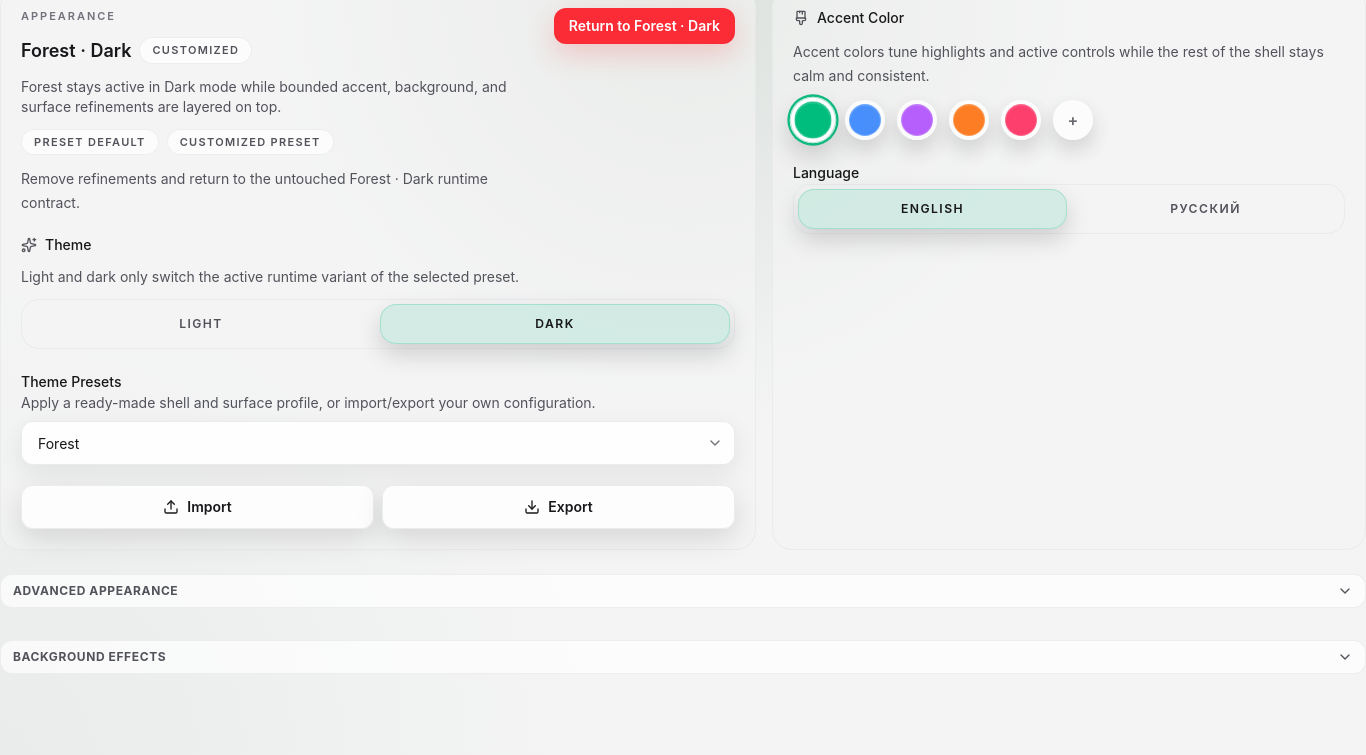
Test: AppearanceTab background controls › shows only particle controls when particles are the active background type
Click the button "Background Effects" at coordinates (90, 657), box [0,640,1365,674]
(page scrolled)
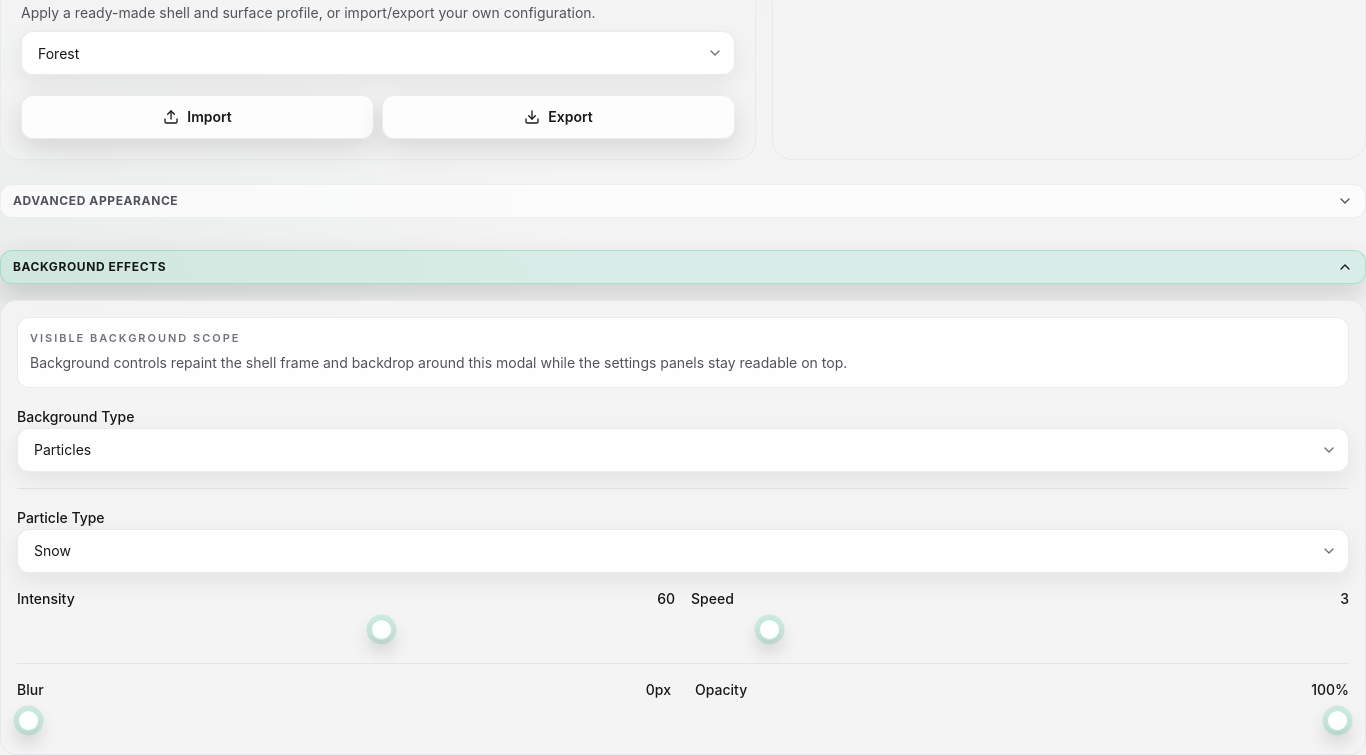
Check: the text "Visible Background Scope" is shown, box [30,331,240,345]
Check: the text "shell frame and backdrop around this modal" is shown, box [30,354,847,371]
Check: the text "Particle Type" is shown, box [17,509,105,526]
